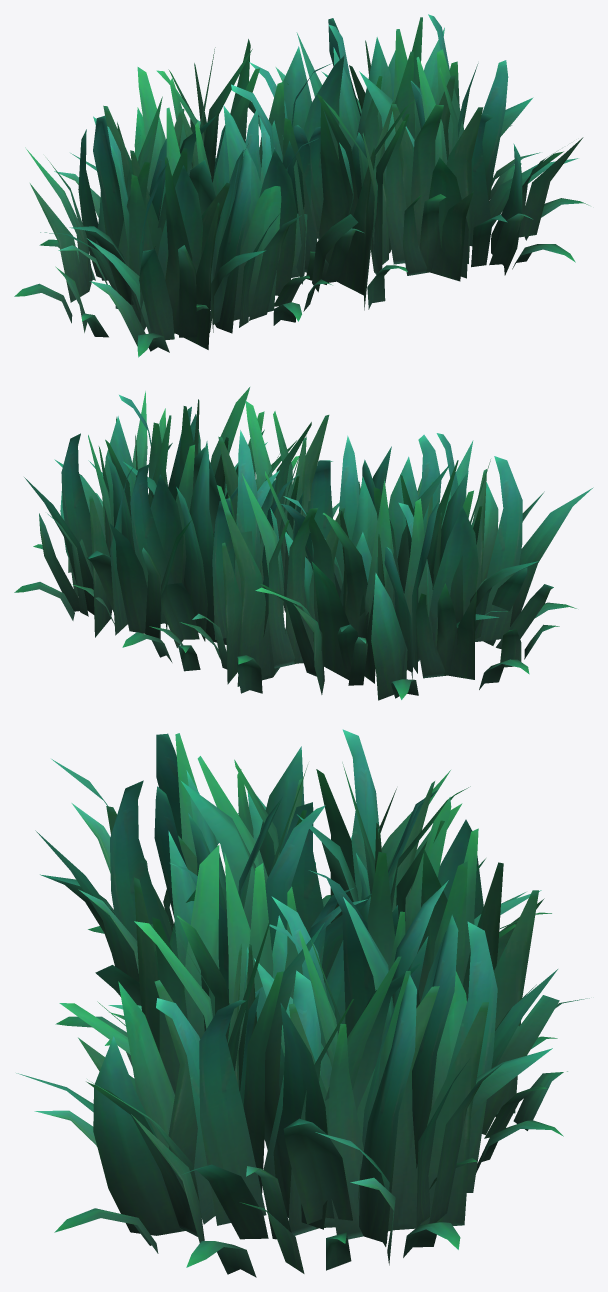
Rendered from pref_sm_beach_techgrass_alpha_04_lv2.fbx.
3 renders of one model, top to bottom at view 1: azimuth 30°, elevation 25°; view 2: azimuth 150°, elevation 25°; view 3: azimuth 270°, elevation 25°, orthographic. The views are drawn at different scales.
Parts seen in each view (by area): view 1: pref_sm_beach_techgrass_alpha_04_lv2; view 2: pref_sm_beach_techgrass_alpha_04_lv2; view 3: pref_sm_beach_techgrass_alpha_04_lv2.
Boxes of the visible parts, box(x1,y1,x2,y2) form: pref_sm_beach_techgrass_alpha_04_lv2: box(14, 14, 589, 357); pref_sm_beach_techgrass_alpha_04_lv2: box(14, 387, 593, 700); pref_sm_beach_techgrass_alpha_04_lv2: box(16, 729, 589, 1277).
Bounding box in the file's own units: 4.82 × 1.81 × 3.17.
